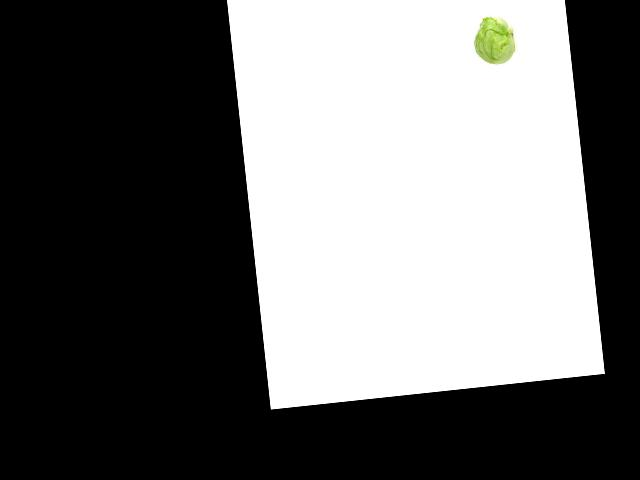lettuce: (466, 9, 517, 71)
